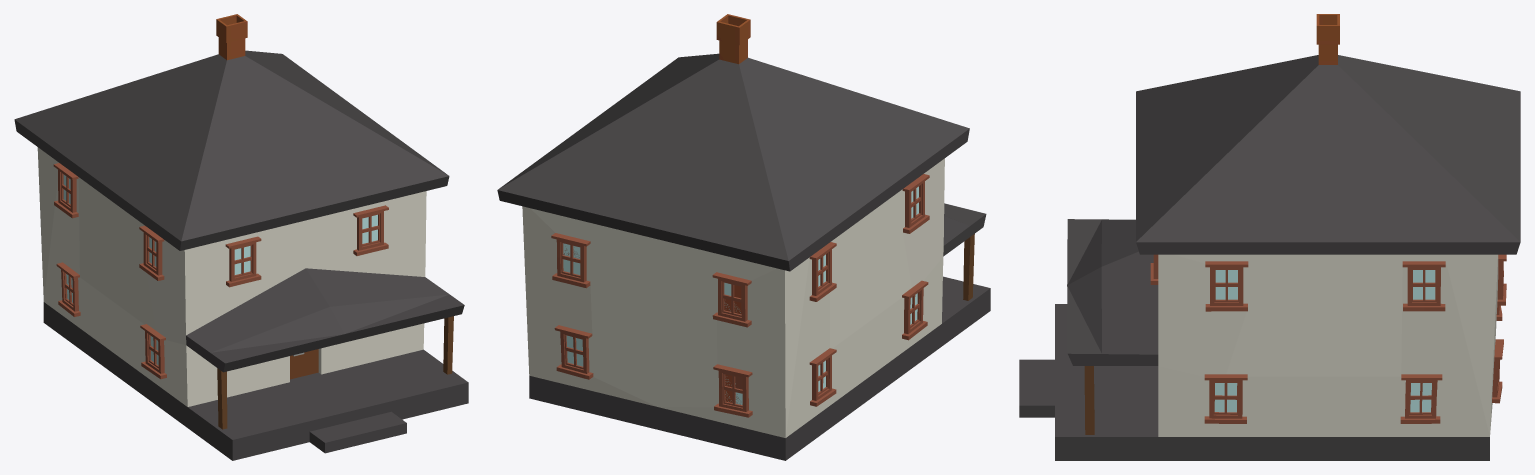
Rendered from quaternius-buildings-house.glb.
3 renders of one model, left to right at view 1: azimuth 30°, elevation 25°; view 2: azimuth 150°, elevation 25°; view 3: azimuth 270°, elevation 25°, orthographic. The views are drawn at different scales.
Visible parts, largest first — view 1: House1; view 2: House1; view 3: House1.
Boxes of the visible parts, box(x1,y1,x2,y2) form: House1: box(14, 14, 468, 460); House1: box(497, 14, 990, 460); House1: box(1019, 14, 1520, 460).
Bounding box in the file's own units: 1.22 × 1.42 × 1.72.
Materials: 1 (1 with a texture image).
